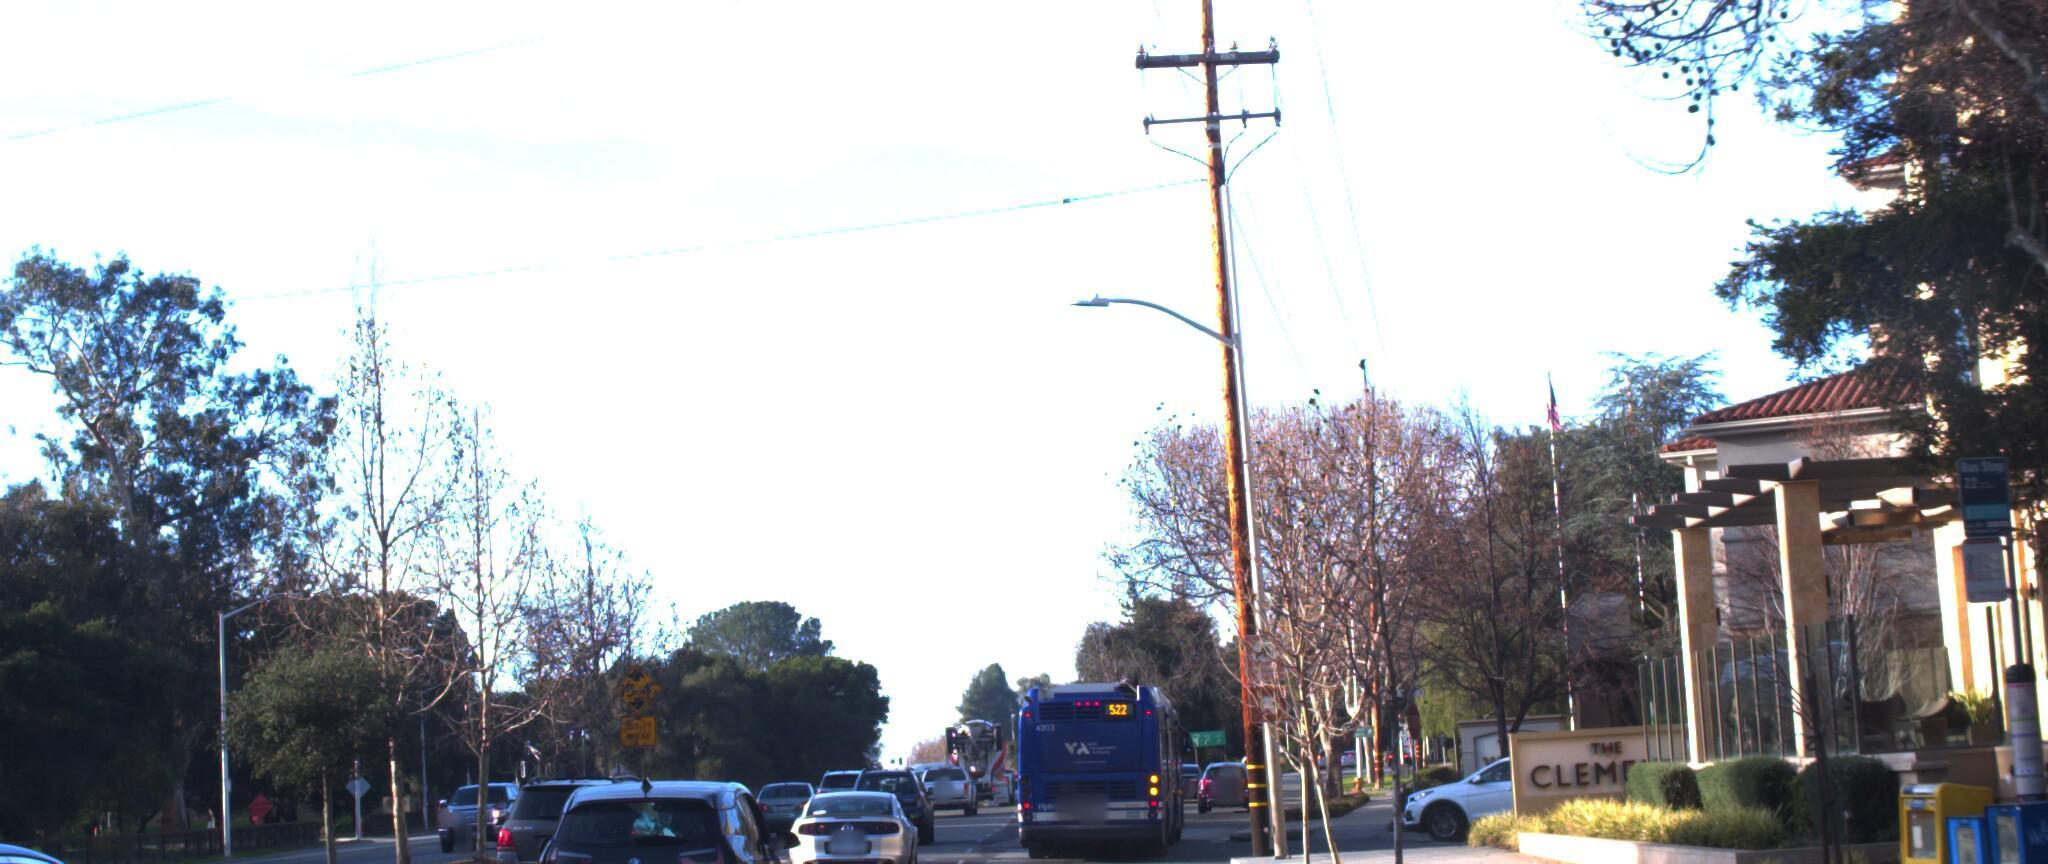bus: (1000, 651, 1178, 864)
car: (503, 762, 802, 864), (1379, 739, 1631, 844), (0, 797, 357, 864), (469, 770, 680, 864), (773, 762, 910, 864), (848, 752, 948, 833), (744, 777, 822, 843)
